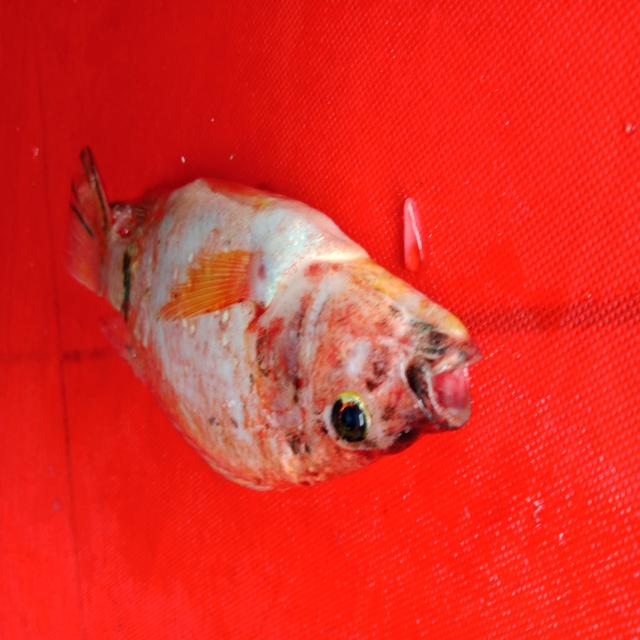ikan: (59, 127, 496, 508)
